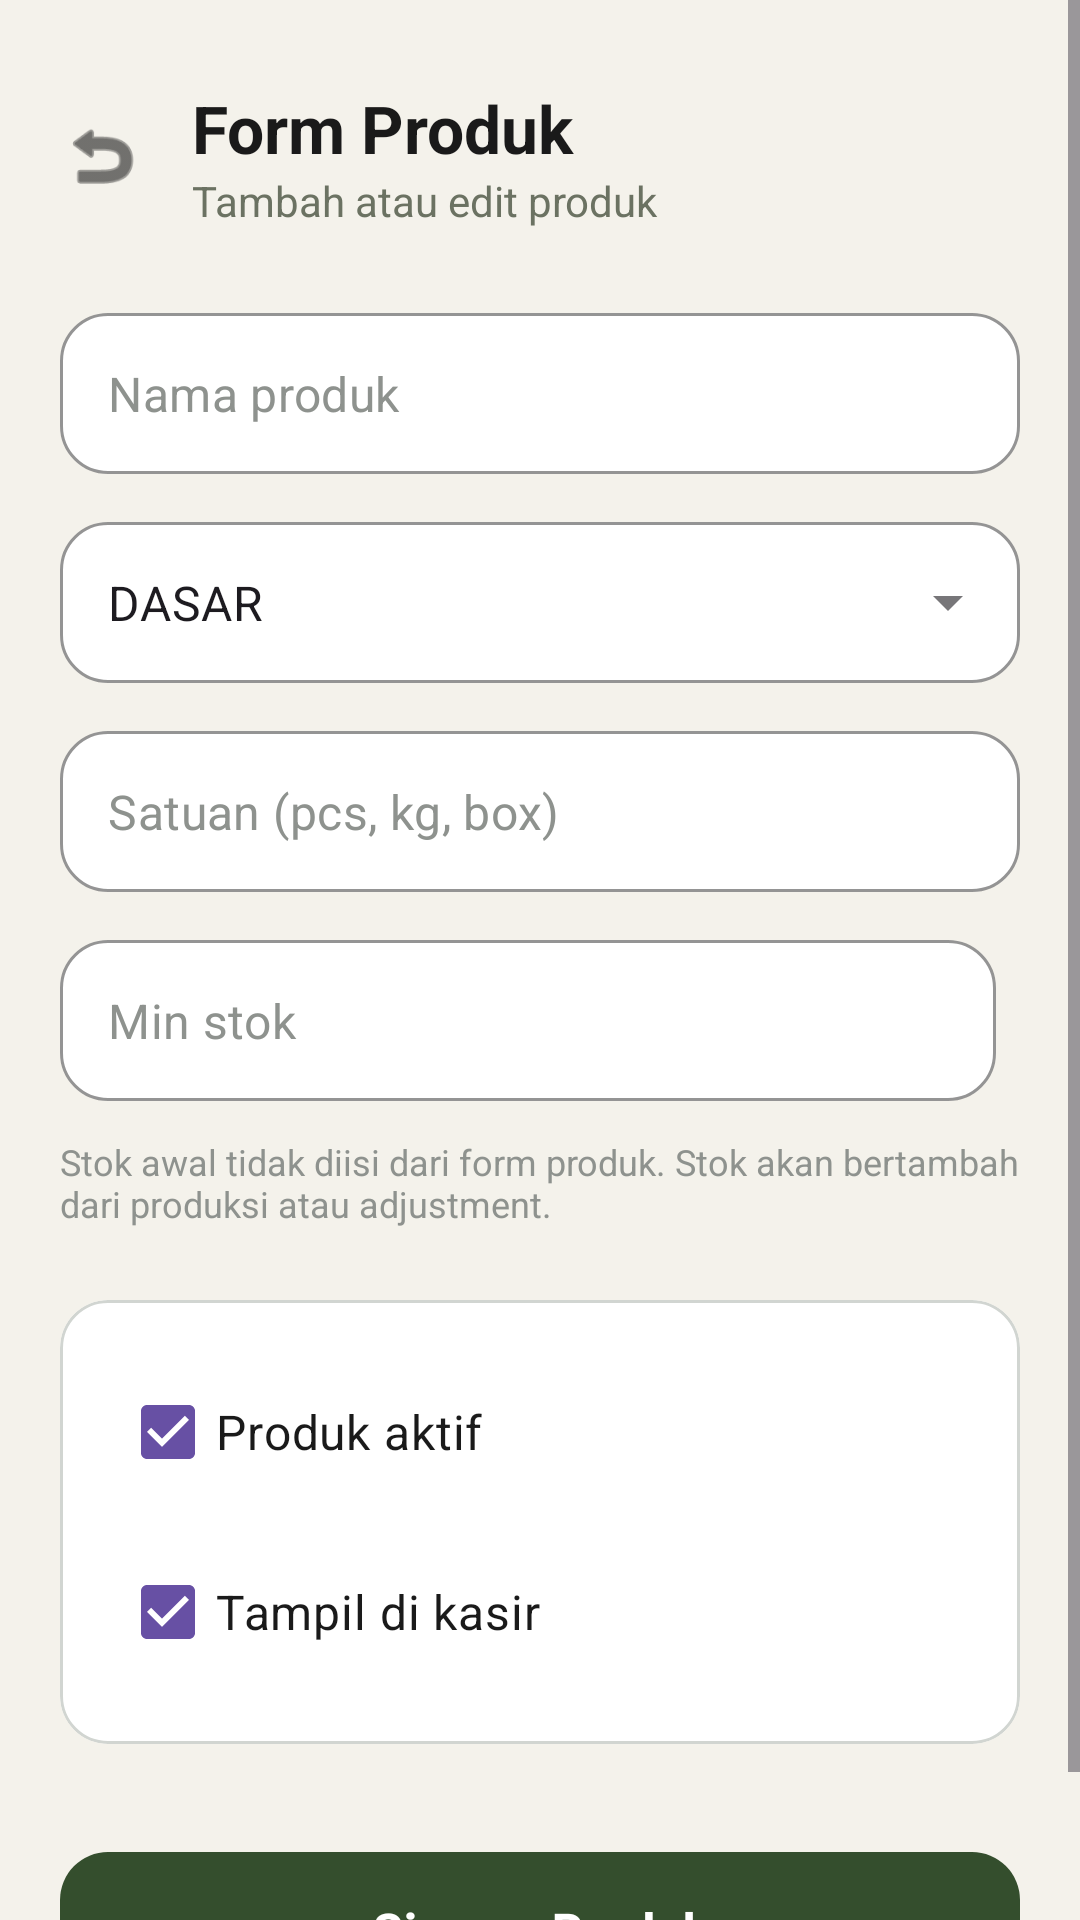

Named icons in this screenshot (1080 × 1920) and their centers, [x,y]:
revert: [103,156]
